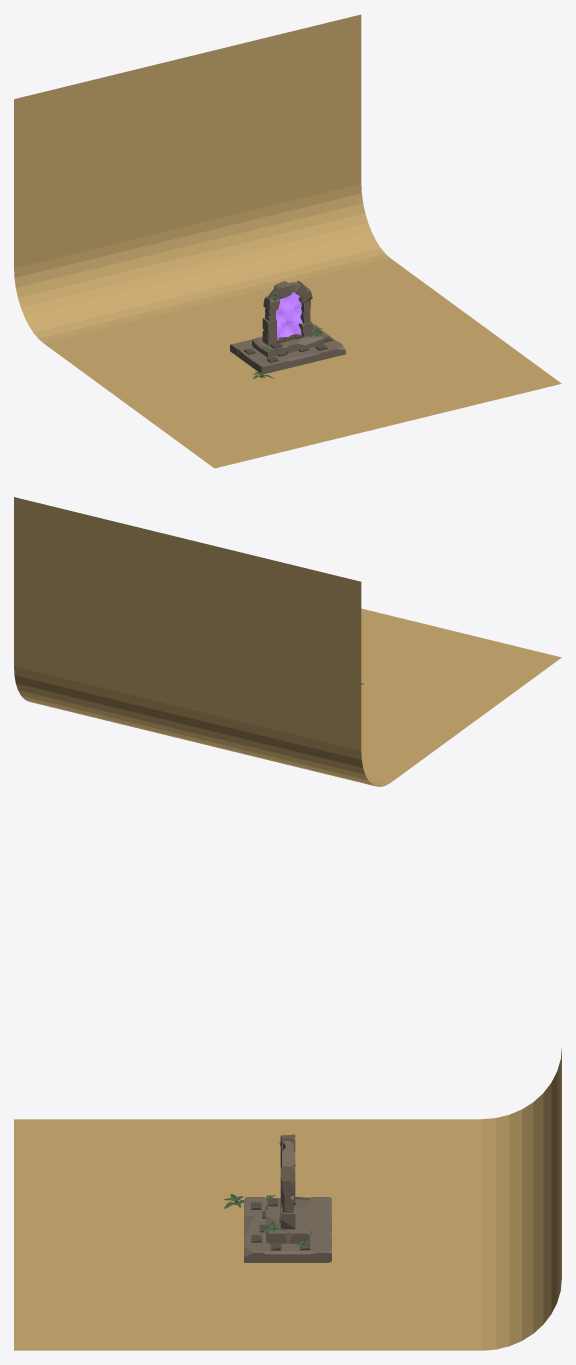
The model's file is portal.glb.
3 renders of one model, top to bottom at view 1: azimuth 30°, elevation 25°; view 2: azimuth 150°, elevation 25°; view 3: azimuth 270°, elevation 25°, orthographic. The views are drawn at different scales.
Visible parts, largest first — view 1: backdrop, portal.base.2, portal.stones, magic.screen, portal.base; view 2: backdrop; view 3: backdrop, portal.base.2, portal.base, portal.stones.
Boxes of the visible parts, x1,y1,x2,y2 form: backdrop: (14, 14, 561, 468); portal.base.2: (230, 324, 345, 373); portal.stones: (262, 280, 313, 345); magic.screen: (275, 292, 302, 340); portal.base: (252, 329, 323, 357); backdrop: (14, 497, 561, 786); backdrop: (14, 1048, 561, 1350); portal.base.2: (244, 1197, 331, 1262); portal.base: (266, 1197, 309, 1243); portal.stones: (280, 1134, 295, 1229).
Size of the model in its own units: 24.88 by 15.26 by 24.88.
